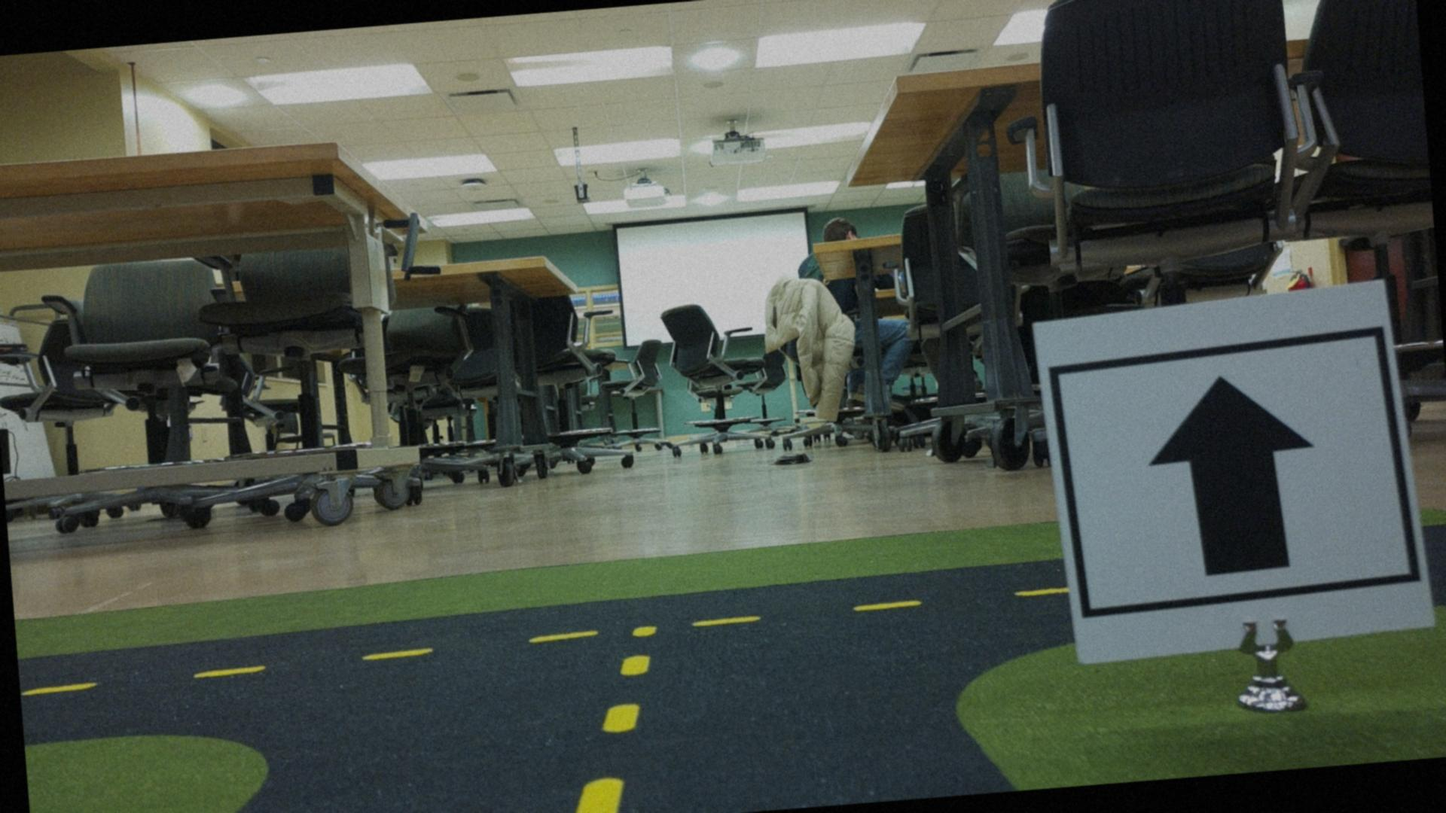gostraight: (1051, 314, 1405, 643)
yellowline: (18, 583, 1069, 695), (561, 624, 667, 812)
